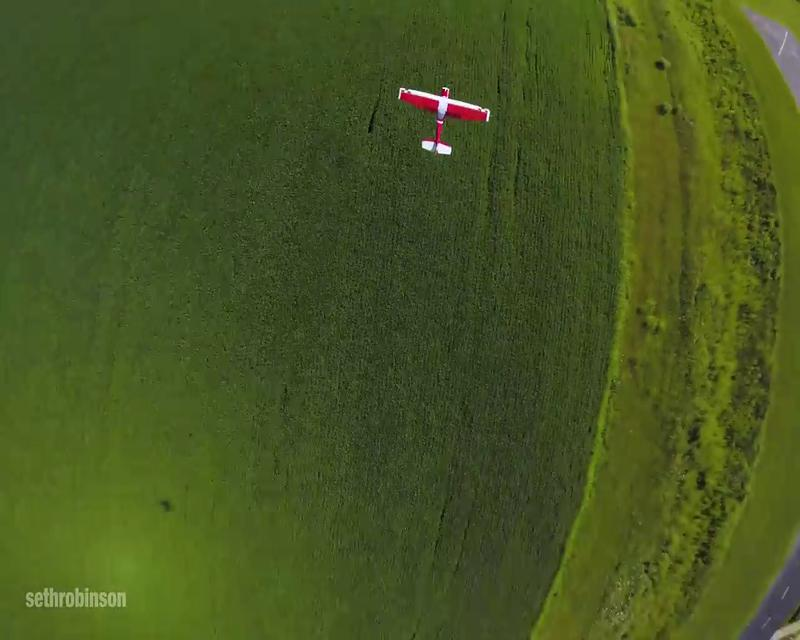UAV: (398, 83, 491, 156)
